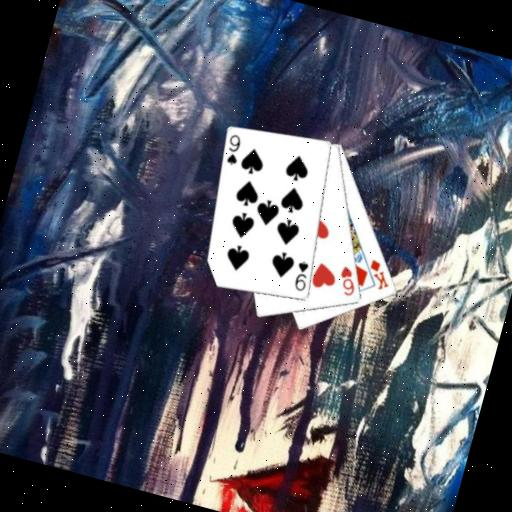6H: (333, 262, 362, 299)
9S: (220, 130, 245, 168), (289, 257, 314, 294)
KD: (362, 256, 396, 294)
